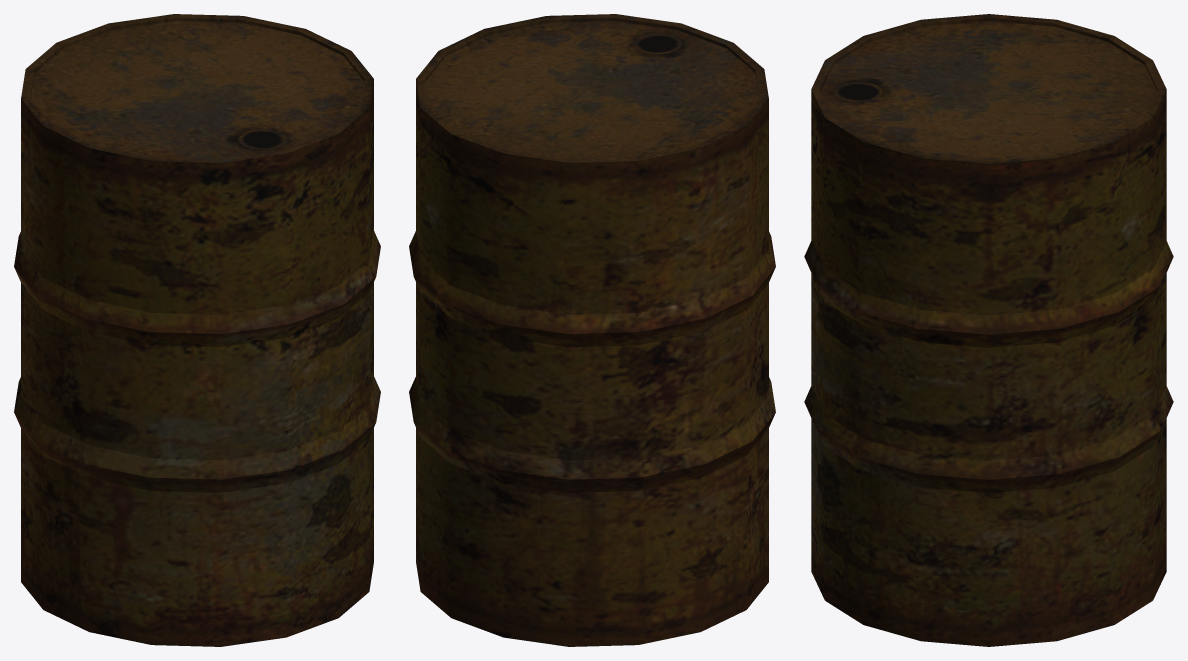
Rendered from metal_barrel_mp_1.fbx.
3 views of the same model, side by side, from view 1: azimuth 30°, elevation 25°; view 2: azimuth 150°, elevation 25°; view 3: azimuth 270°, elevation 25° (orthographic).
Visible parts, largest first — view 1: metal_barrel_mp_1; view 2: metal_barrel_mp_1; view 3: metal_barrel_mp_1.
Part boxes in pixels (<box>): metal_barrel_mp_1: <box>14,14,380,646</box>; metal_barrel_mp_1: <box>409,14,775,646</box>; metal_barrel_mp_1: <box>804,14,1173,646</box>.
Bounding box in the file's own units: 0.7488 × 0.7488 × 1.08.
